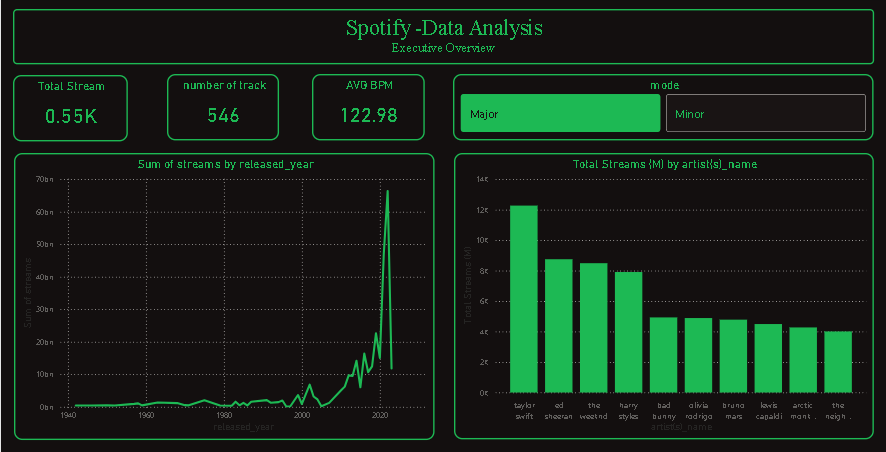

What the dashboard file says about the page in this screenshot:
{"tool":"powerbi","page":{"name":"Page 1","canvas":[1280,720],"ordinal":0},"visuals":[{"type":"textbox","box":[17.7,17.7,1244.6,79.5],"z":0},{"type":"card","title":"Total Stream","fields":{"Values":["Count(spotify-2023.streams)"]},"box":[16.8,112.5,166.3,95.7],"z":1000},{"type":"card","title":"number of track","fields":{"Values":["Count(spotify-2023.track_name)"]},"box":[240.1,111.9,162,95.7],"z":2000},{"type":"card","title":"AVG BPM","fields":{"Values":["Avg(spotify-2023.bpm)"]},"box":[449.3,111.9,163.5,95.7],"z":3000},{"type":"columnChart","fields":{"Category":["spotify-2023.artist(s)_name"],"Y":["spotify-2023.Total Streams (M)"]},"box":[654.3,225.7,607.1,414.3],"z":4000},{"type":"lineChart","fields":{"Y":["Sum(spotify-2023.streams)"],"Category":["spotify-2023.released_year"]},"box":[18.3,225,608.3,415],"z":5000},{"type":"advancedSlicerVisual","fields":{"Values":["spotify-2023.mode"]},"box":[654,111.9,608.3,95.7],"z":6000}]}

Visuals, with their boxes on the page's 1280x720 design canvas (x1, y1, x2, y2). These are canvas units, not pixel positions in the 886x452 screenshot, which may show the page scaled, cropped or inside an application window:
textbox: pyautogui.locateOnScreen(18, 18, 1262, 97)
"Total Stream" card: pyautogui.locateOnScreen(17, 112, 183, 208)
"number of track" card: pyautogui.locateOnScreen(240, 112, 402, 208)
"AVG BPM" card: pyautogui.locateOnScreen(449, 112, 613, 208)
columnChart - spotify-2023.artist(s)_name x spotify-2023.Total Streams (M): pyautogui.locateOnScreen(654, 226, 1261, 640)
lineChart - Sum(spotify-2023.streams) x spotify-2023.released_year: pyautogui.locateOnScreen(18, 225, 627, 640)
advancedSlicerVisual - spotify-2023.mode: pyautogui.locateOnScreen(654, 112, 1262, 208)
